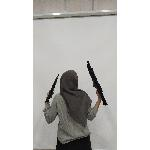Senapan: (80, 56, 110, 108), (40, 69, 66, 110)
